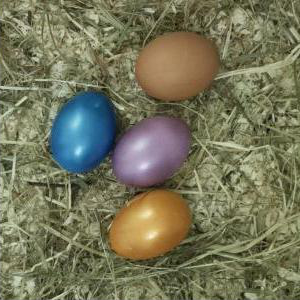egg: (106, 189, 193, 262), (108, 117, 192, 187), (136, 31, 220, 101), (50, 91, 116, 174)
